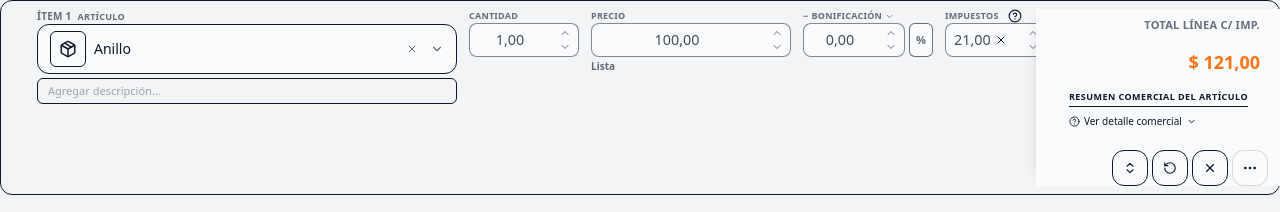
T5 — Card desplegable de Impuestos en Factura de ventas › click en el header del card → abre el panel con el detalle
This screenshot has width=1280, height=212.
Click the button named "detalle de impuestos": point(1015, 16) 1005,6 -> 1025,26
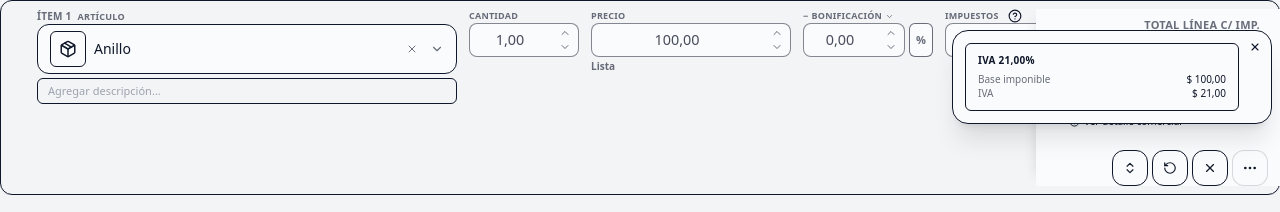
Expected: the element showing "IVA 21,00% Base imponible $ 100,00 IVA $ 21,00" is shown, 965,43 -> 1239,110
